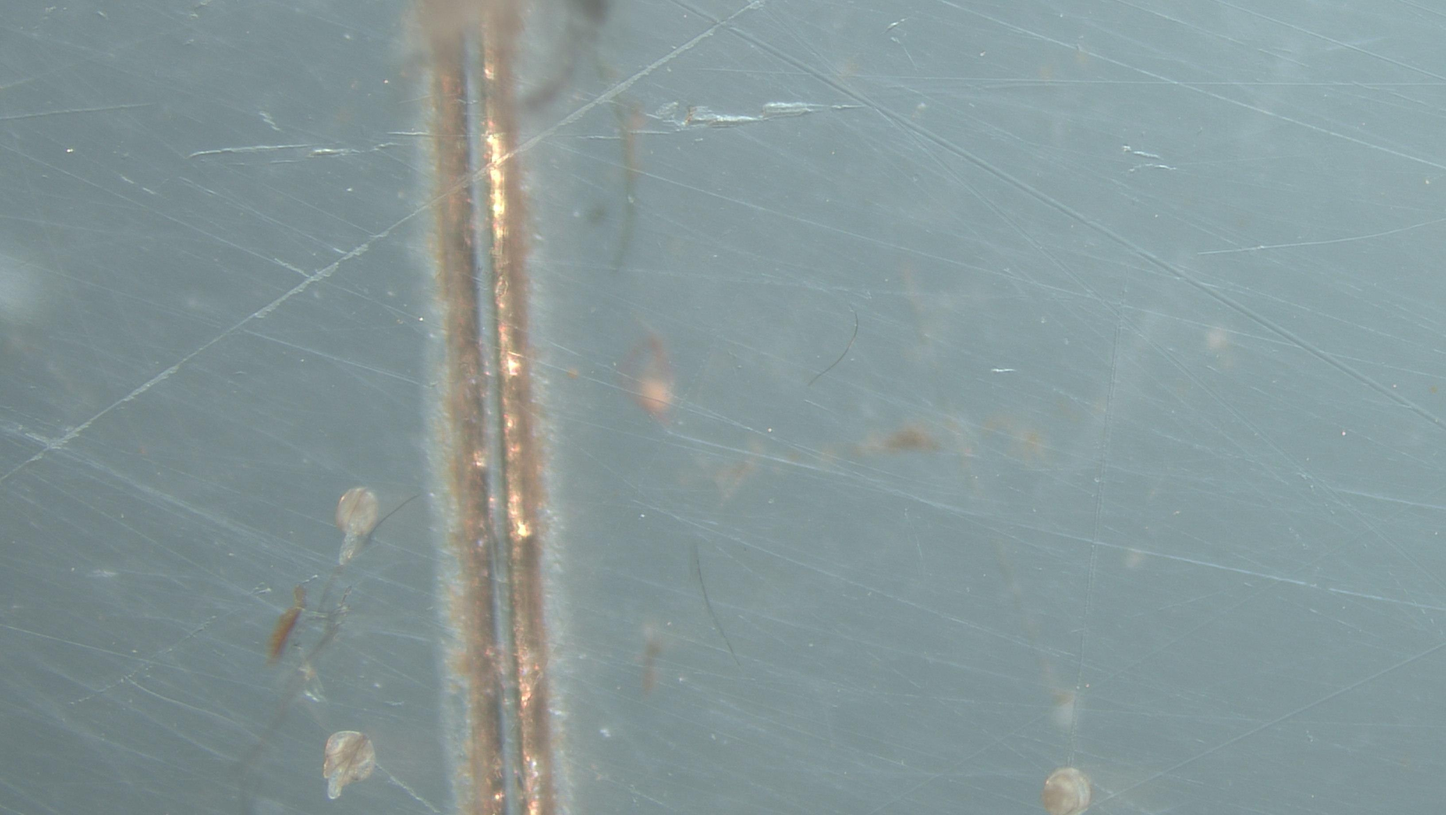live: (323, 731, 376, 800), (336, 487, 379, 567), (1042, 768, 1092, 815)
